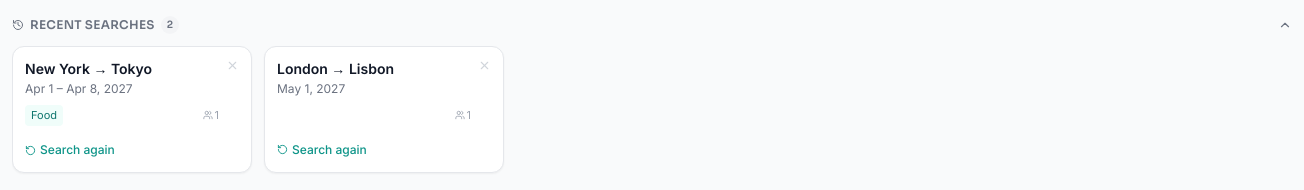
Test: RecentSearches accordion › remembers a collapsed section the next time it is shown
Click the button "Recent searches 2" at [92, 24], box [12,12,1292,38]
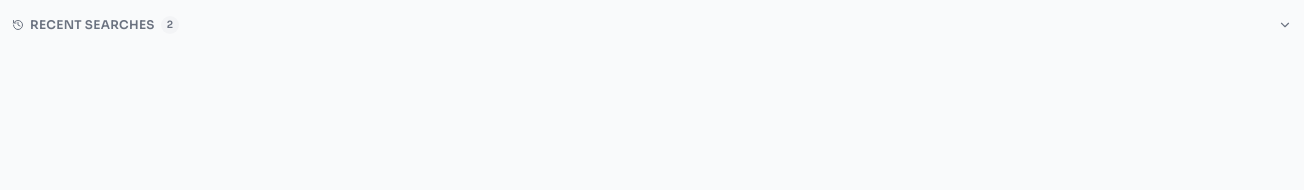
Now the button "Recent searches 2" is collapsed, box [12,12,1292,38]
